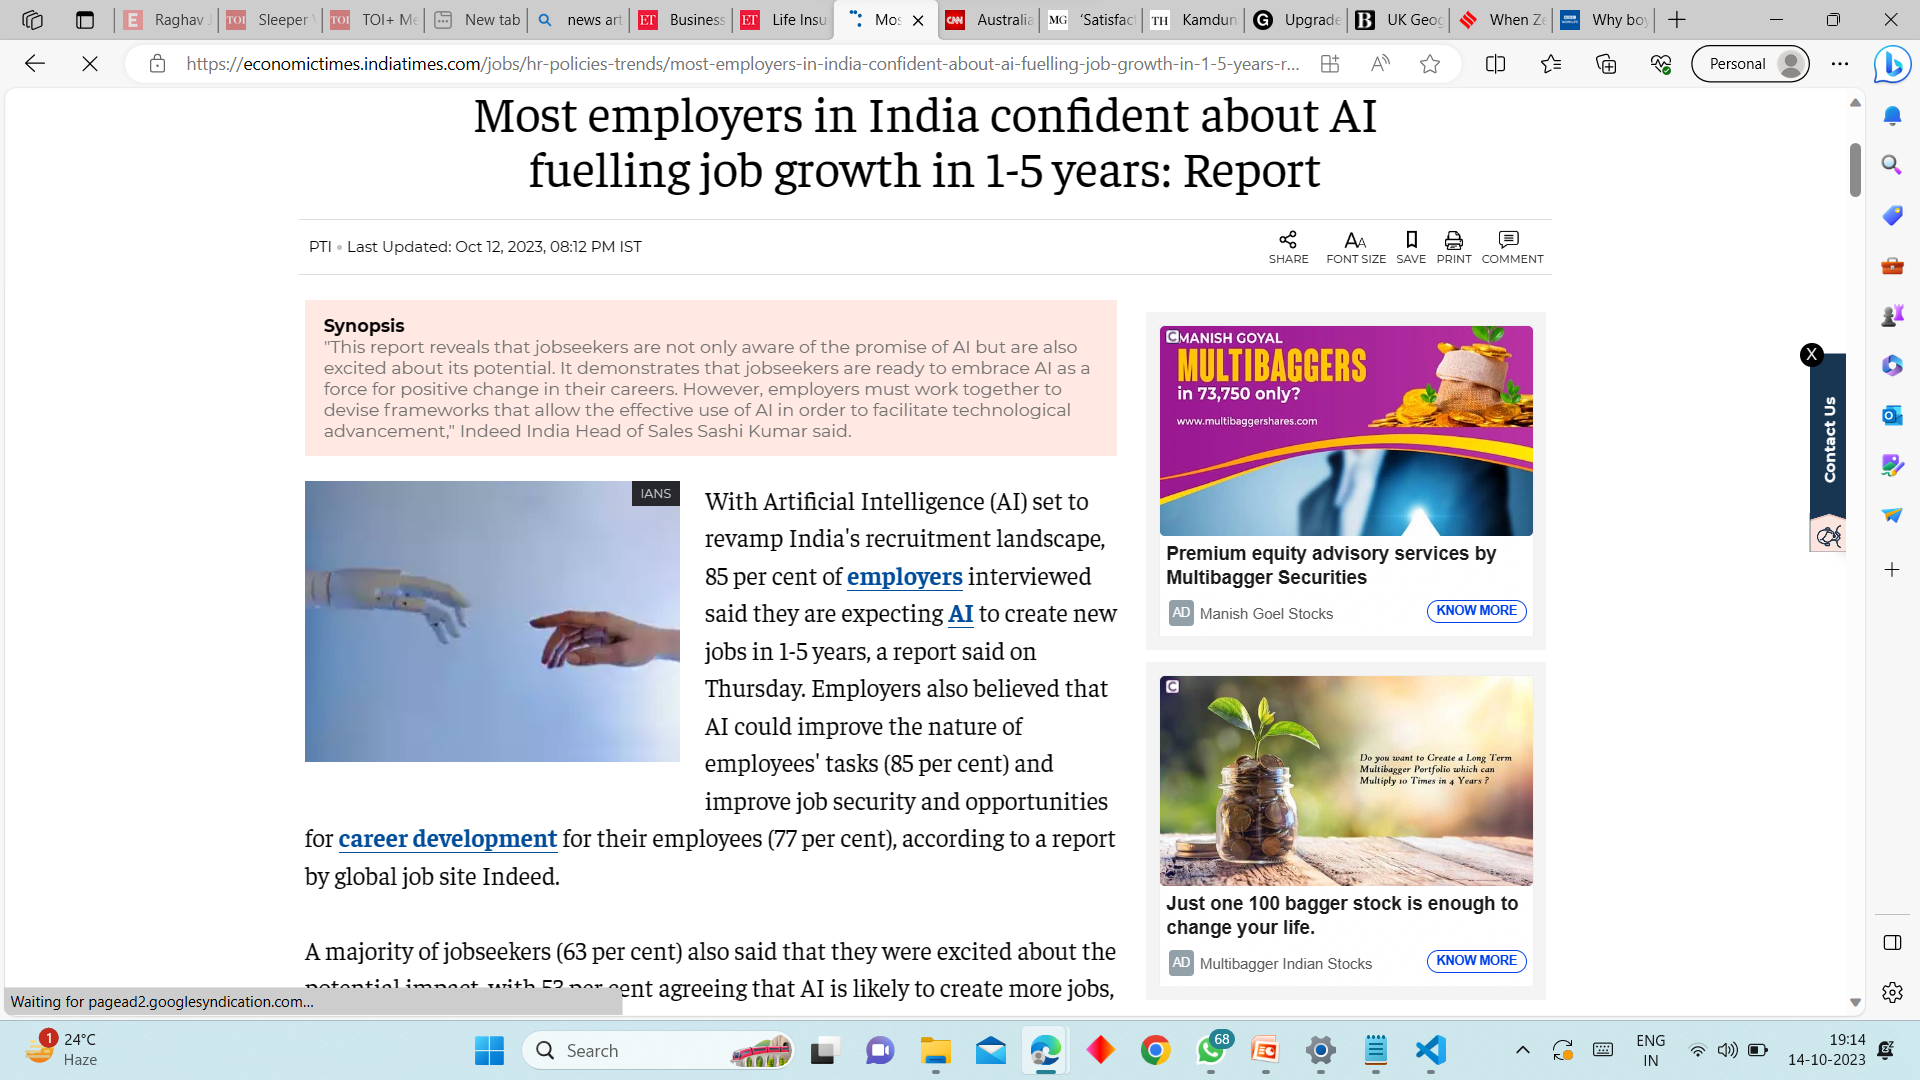Image: (1142, 322, 1547, 665), (1151, 671, 1547, 997), (289, 467, 684, 774)
Paragraph: (687, 485, 1106, 812), (440, 96, 1399, 203), (322, 338, 1122, 463), (286, 816, 1129, 913), (284, 932, 1116, 1000), (306, 228, 659, 264), (1482, 228, 1552, 276), (1317, 224, 1385, 268), (319, 306, 409, 328), (1254, 225, 1305, 264), (1391, 225, 1429, 268), (1440, 228, 1473, 276)
